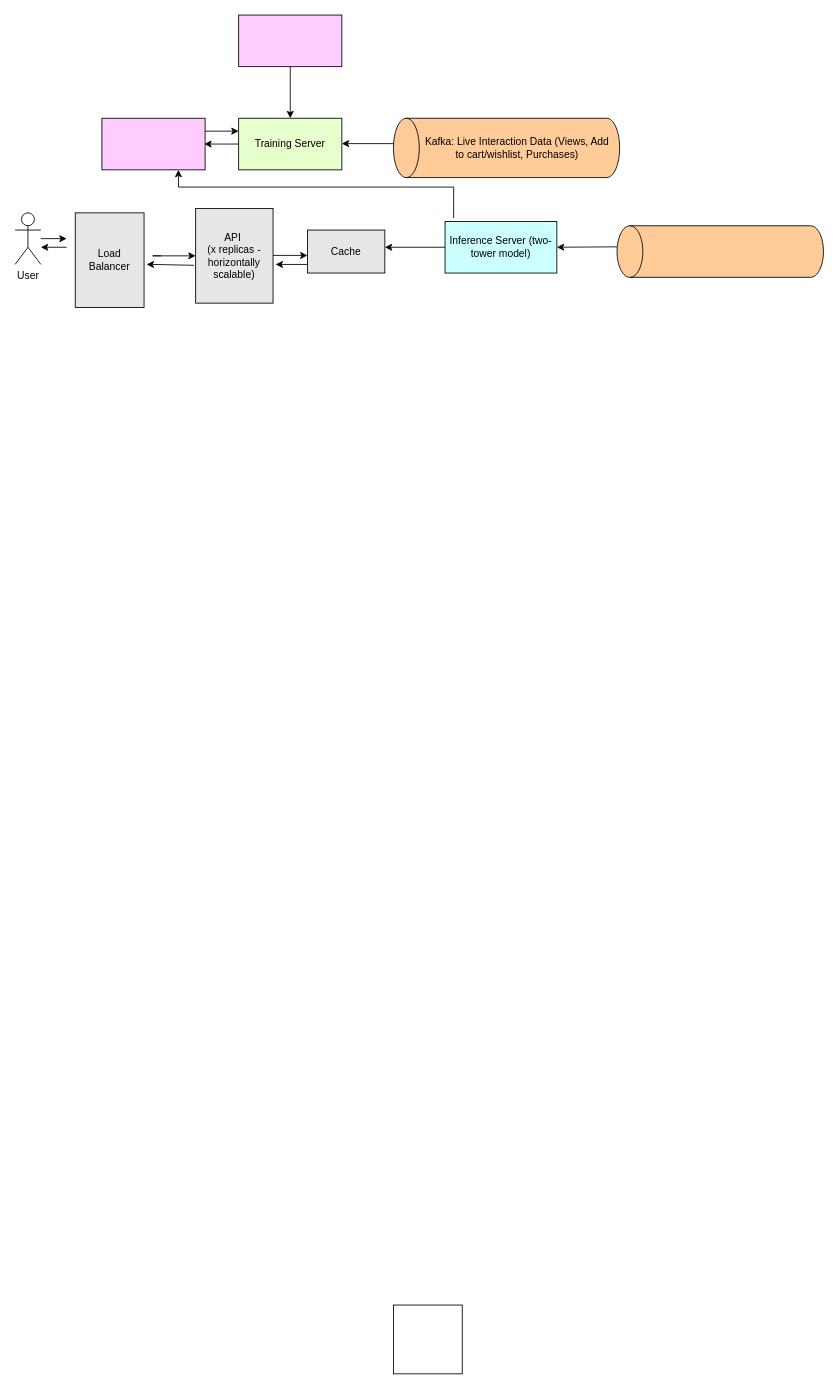
Some shapes in this 839 by 1389 pixel diagram are drawn without their labels. Each missing label, with the centre of its shape:
"Airflow (Orchestration)" belongs at pixel 290 40.
"Kafka: New Products Stream" belongs at pixel 719 251.
"MLflow (Tracking Server)" belongs at pixel 153 143.
